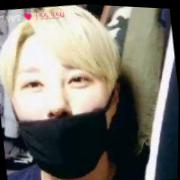WRONG: (6, 48, 124, 180)
